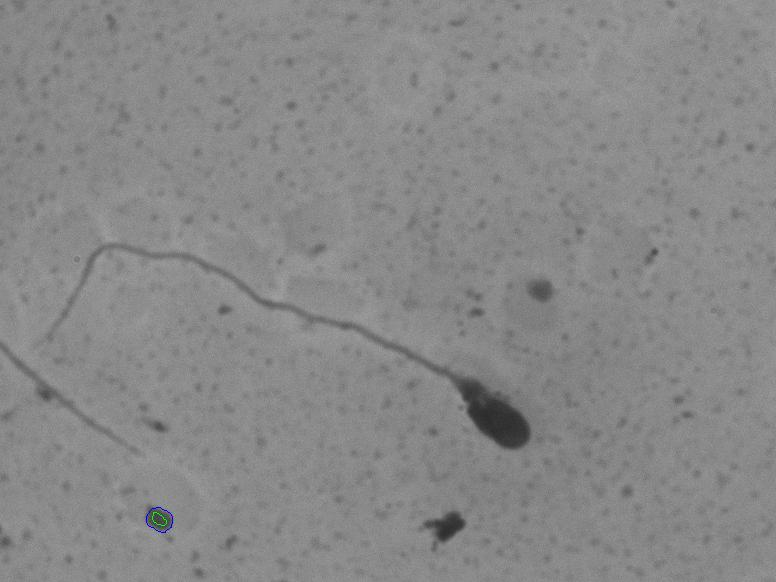Abnormal: (32, 209, 546, 478)
